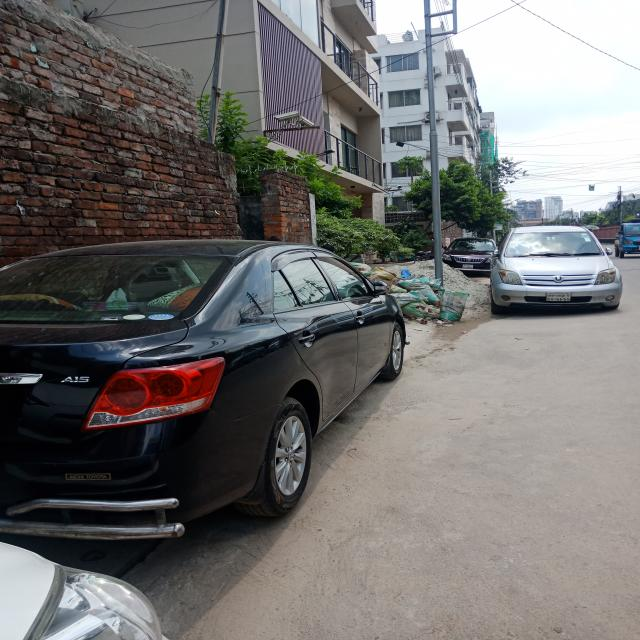car: (0, 229, 429, 533), (479, 211, 622, 318)
